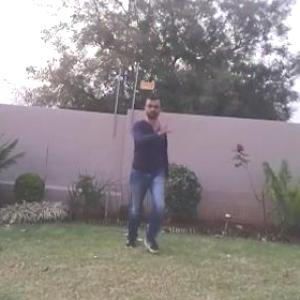follow_hand: (153, 116, 176, 139)
